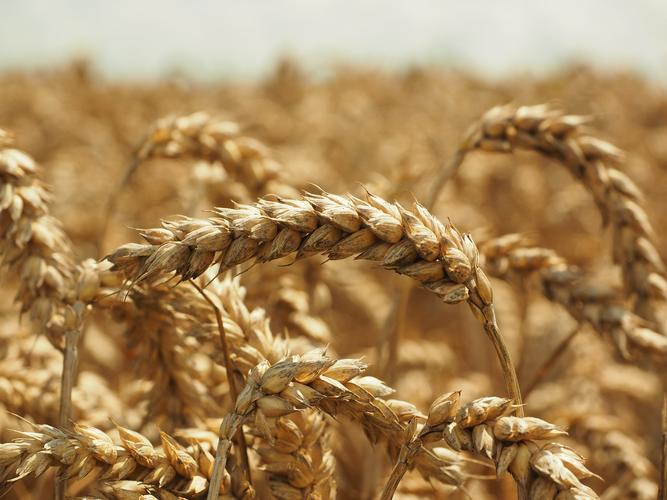wheat: (224, 350, 591, 500), (84, 188, 495, 321)
